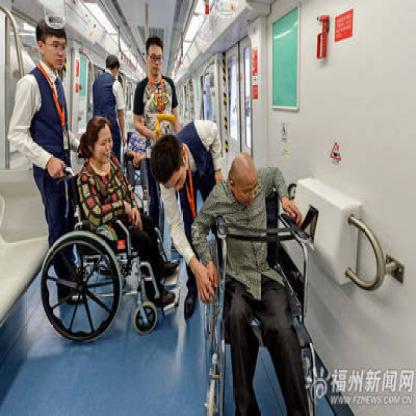wheelchair: (192, 152, 322, 414), (40, 114, 180, 340)
